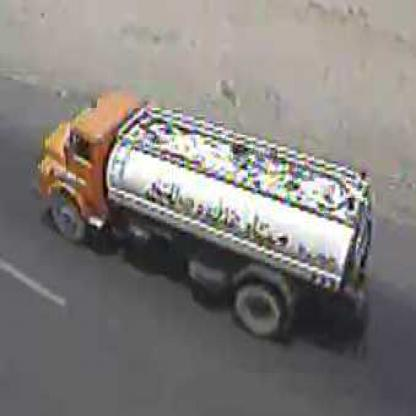truck: (39, 92, 373, 339)
